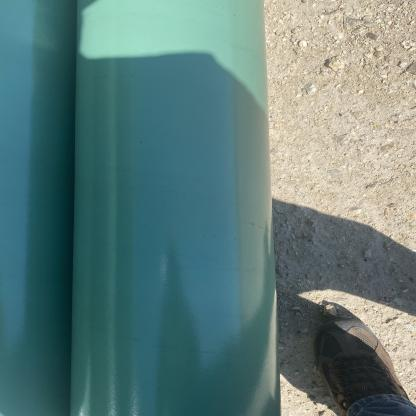clean: (136, 100, 190, 198)
